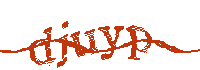d: (29, 26, 55, 67)
j: (56, 21, 69, 68)
p: (125, 23, 150, 61)
u: (70, 29, 97, 56)
y: (97, 24, 124, 62)
